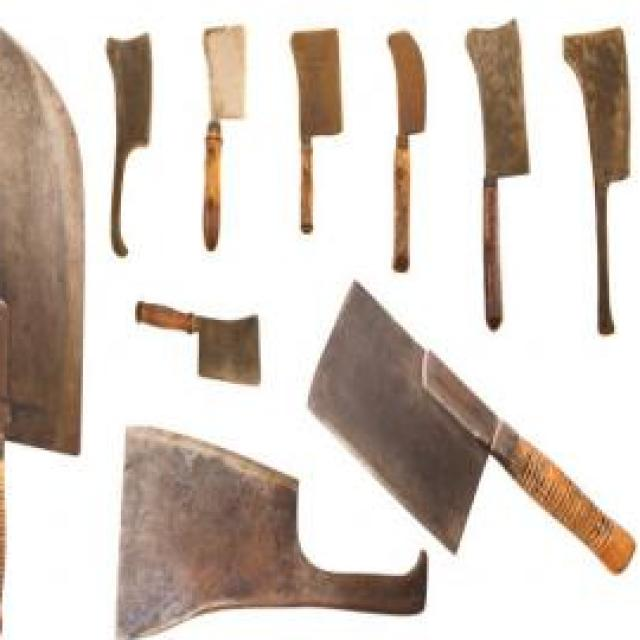knife: (307, 278, 638, 584), (117, 424, 429, 638), (0, 9, 88, 640), (563, 28, 635, 339), (466, 22, 536, 336), (136, 296, 263, 389), (290, 22, 344, 240), (104, 31, 152, 261), (385, 26, 427, 274), (202, 19, 244, 260)
